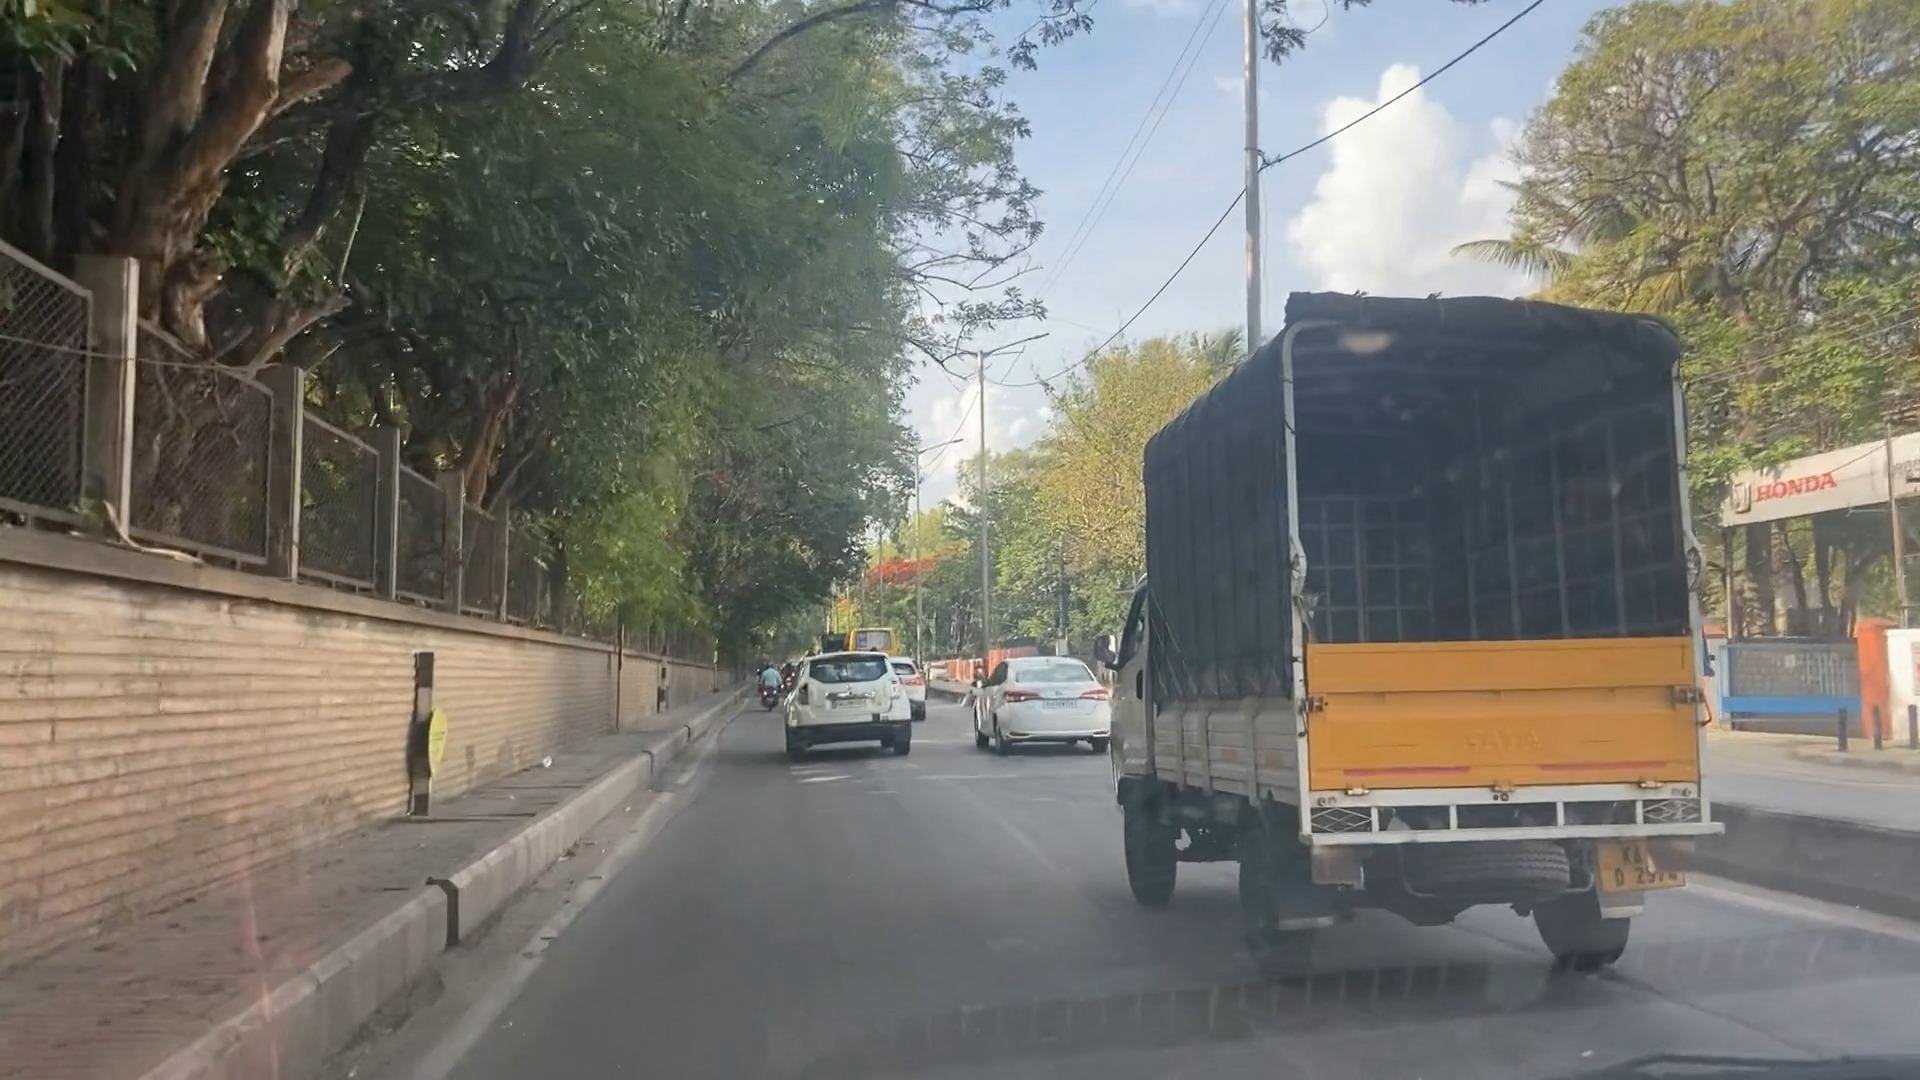HMV: (1106, 286, 1698, 977)
LMV: (782, 646, 915, 756), (975, 654, 1105, 749)
